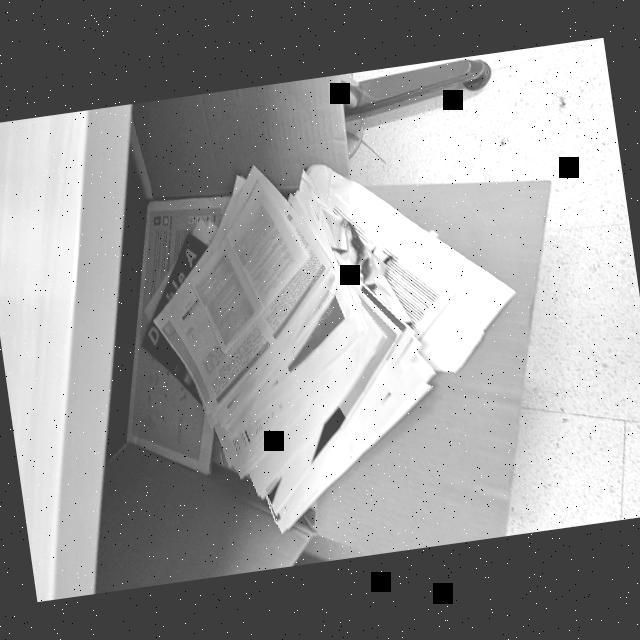reuseable_paper: (130, 132, 546, 549)
